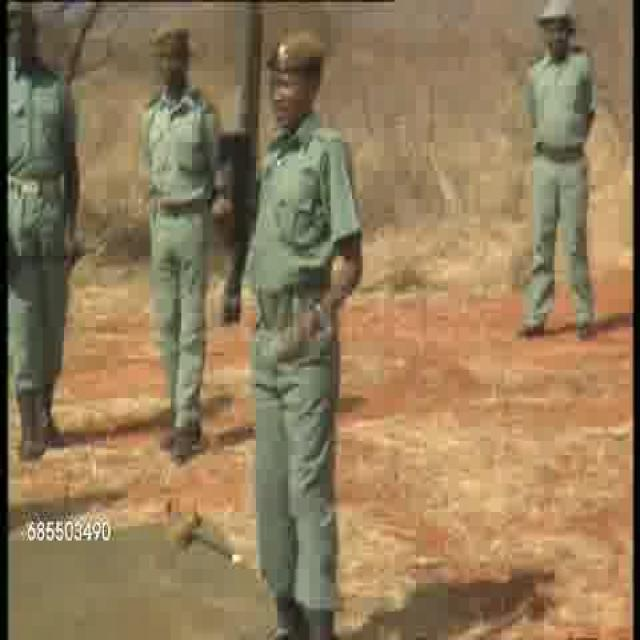ranger: (236, 32, 364, 622), (116, 0, 221, 463), (494, 1, 621, 347), (14, 7, 91, 442)
